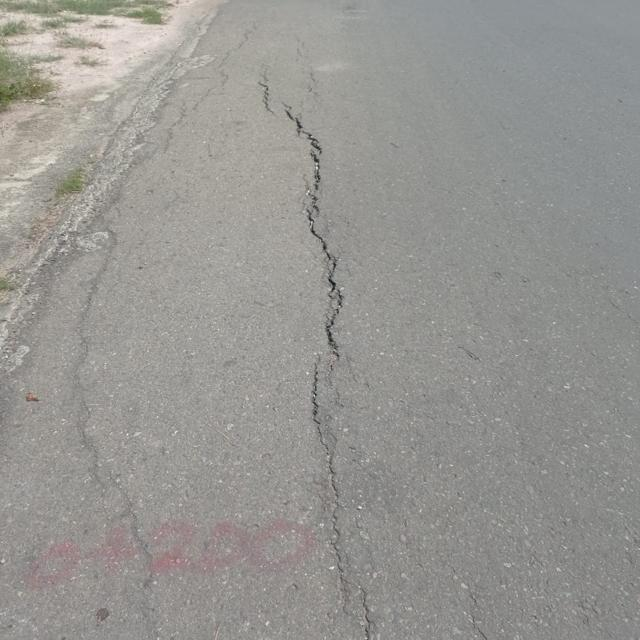Memanjang: (277, 89, 360, 625)
